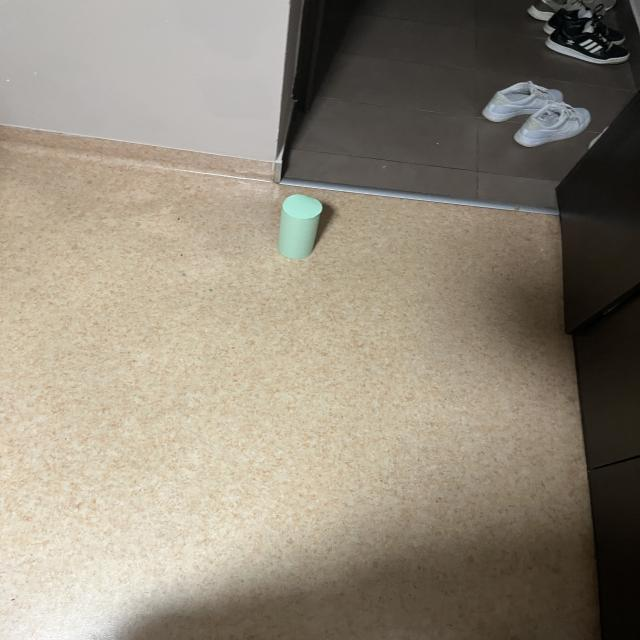meta: (278, 194, 322, 259)
